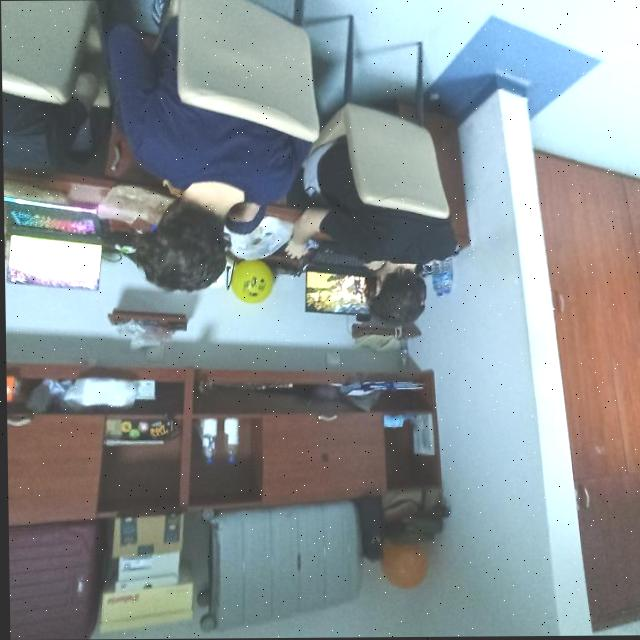balloon: (378, 542, 426, 589), (228, 257, 274, 303)
